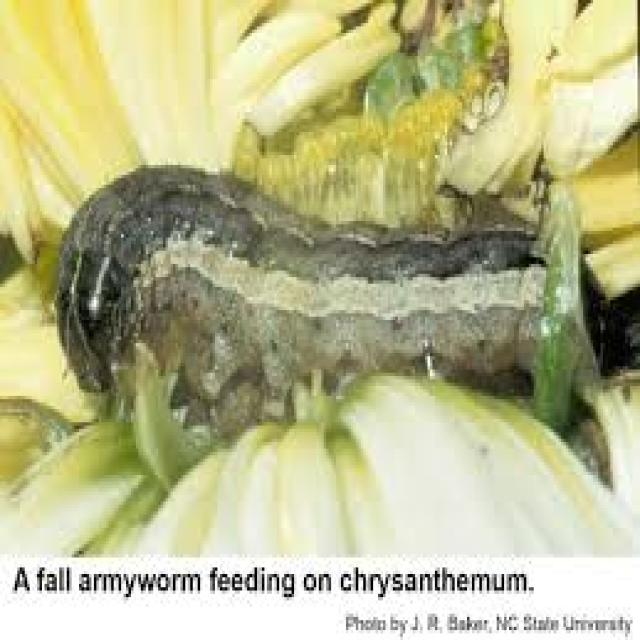Army Worm: (48, 155, 616, 438)
